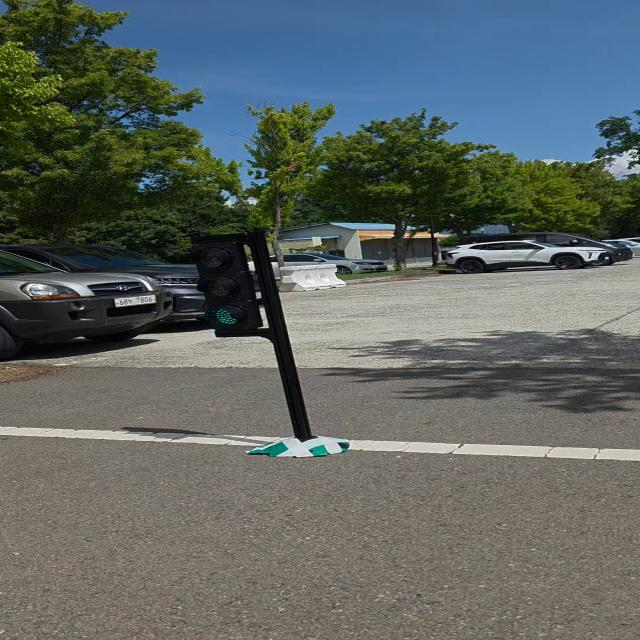green: (192, 234, 266, 338)
